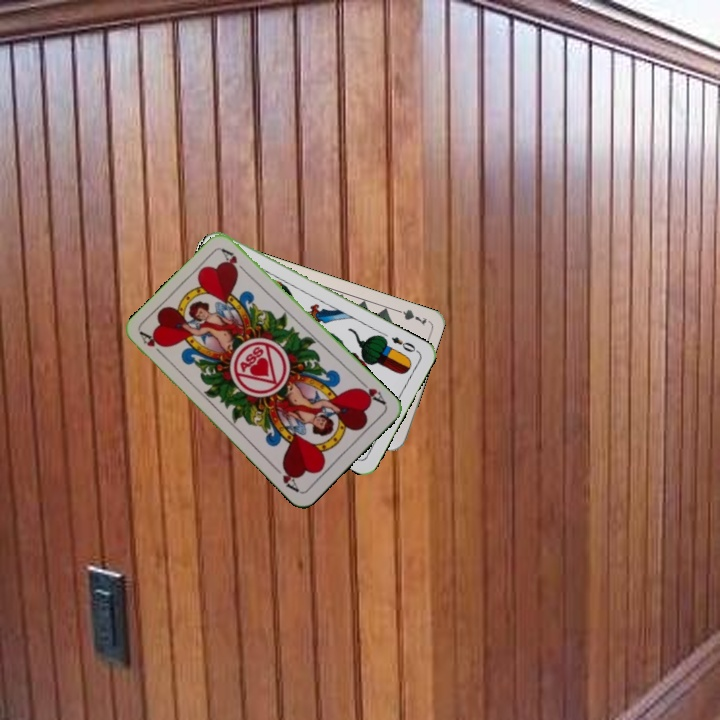EO: (387, 333, 421, 355)
G7: (390, 305, 430, 328)
HA: (354, 376, 389, 408), (136, 328, 169, 361)
